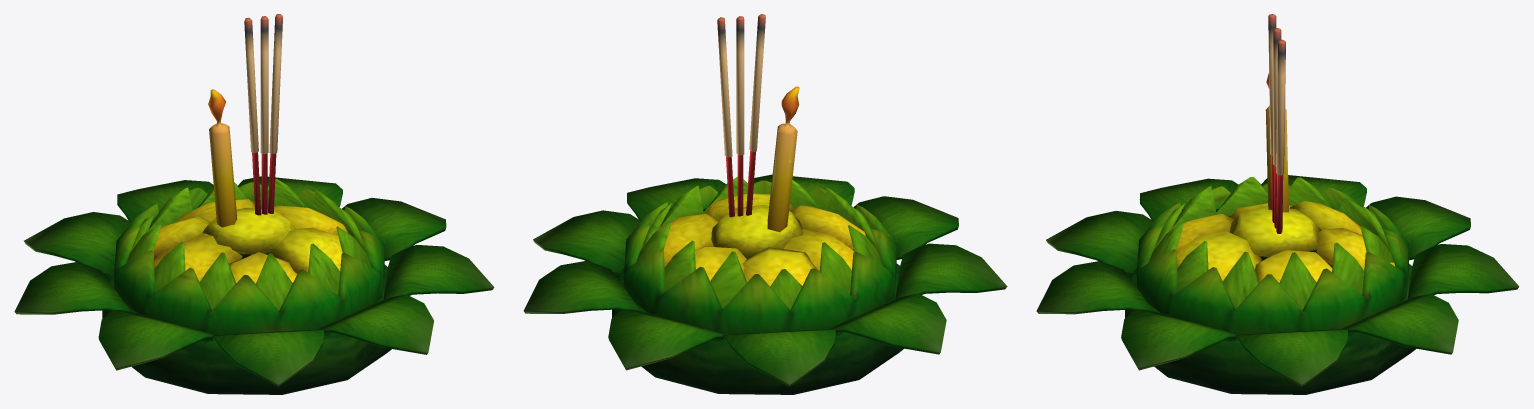
The model's file is Krathong.glb.
3 renders of one model, left to right at view 1: azimuth 30°, elevation 25°; view 2: azimuth 150°, elevation 25°; view 3: azimuth 270°, elevation 25°, orthographic.
Visible parts, largest first — view 1: Krathong; view 2: Krathong; view 3: Krathong.
Part boxes in pixels (x1,y1,x2,y2): Krathong: (14, 14, 494, 394); Krathong: (523, 14, 1007, 394); Krathong: (1036, 14, 1519, 394).
Size of the model in its own units: 0.5741 by 0.4171 by 0.5708.
Materials: 1 (1 with a texture image).
